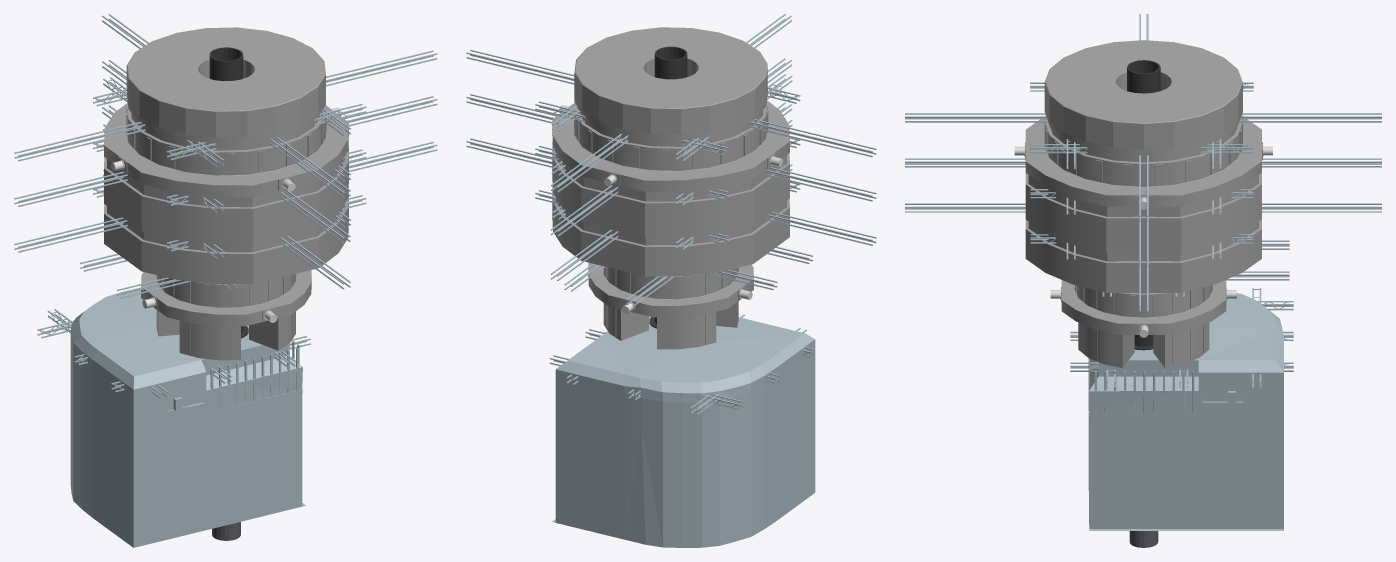
File: UpdatedScene.fbx
3 renders of one model, left to right at view 1: azimuth 30°, elevation 25°; view 2: azimuth 150°, elevation 25°; view 3: azimuth 270°, elevation 25°, orthographic. The views are drawn at different scales.
Parts seen in each view (by area): view 1: Room02, roomLayout03:WALLS, Room01, Module02Girders, Module02Girders1, Module02Girders2, roomLayout03:Wall_Struts, roomLayout03:GIRDERS1, ElevaotrChute02, GIRDERS1; view 2: roomLayout03:WALLS, Room02, Room01, Module02Girders, Module02Girders1, Module02Girders2, GIRDERS1, roomLayout03:GIRDERS1, ElevaotrChute02; view 3: Room02, roomLayout03:WALLS, Room01, Module02Girders, Module02Girders2, Module02Girders1, roomLayout03:Wall_Struts, roomLayout03:GIRDERS1, ElevaotrChute02, GIRDERS1.
Boxes of the visible parts, x1,y1,x2,y2 form: Room02: [104, 27, 348, 284]; roomLayout03:WALLS: [70, 287, 305, 547]; Room01: [141, 270, 311, 360]; Module02Girders: [14, 14, 437, 197]; Module02Girders1: [14, 59, 437, 243]; Module02Girders2: [14, 105, 437, 289]; roomLayout03:Wall_Struts: [210, 341, 299, 411]; roomLayout03:GIRDERS1: [37, 309, 310, 398]; ElevaotrChute02: [209, 47, 243, 81]; GIRDERS1: [80, 253, 237, 298]; roomLayout03:WALLS: [552, 316, 815, 547]; Room02: [552, 27, 789, 276]; Room01: [588, 263, 753, 349]; Module02Girders: [466, 14, 876, 192]; Module02Girders1: [466, 58, 876, 236]; Module02Girders2: [466, 102, 876, 280]; GIRDERS1: [564, 246, 813, 306]; roomLayout03:GIRDERS1: [549, 314, 815, 415]; ElevaotrChute02: [654, 46, 687, 79]; Room02: [1025, 40, 1262, 292]; roomLayout03:WALLS: [1088, 293, 1283, 530]; Room01: [1061, 280, 1226, 368]; Module02Girders: [905, 14, 1381, 221]; Module02Girders2: [905, 203, 1381, 311]; Module02Girders1: [905, 158, 1381, 266]; roomLayout03:Wall_Struts: [1088, 358, 1194, 413]; roomLayout03:GIRDERS1: [1070, 288, 1293, 387]; ElevaotrChute02: [1127, 60, 1160, 93]; GIRDERS1: [1102, 240, 1289, 296].
Size of the model in its own units: 10414 by 11420 by 10395.
